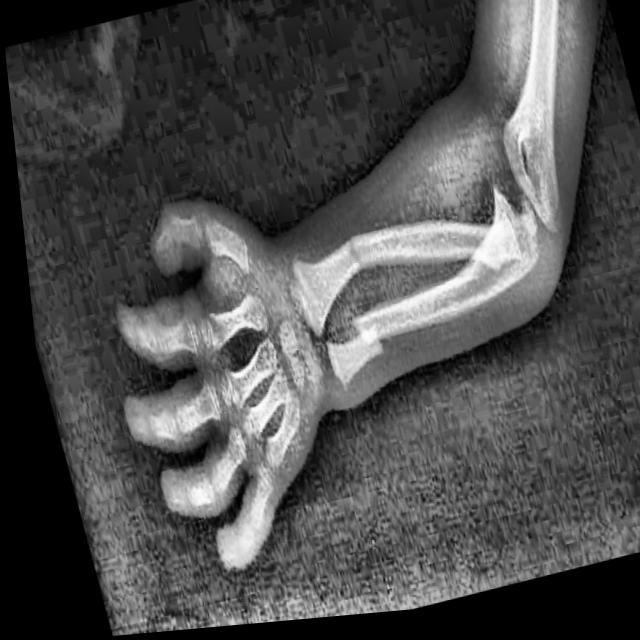fracture: (341, 315, 382, 373), (339, 240, 360, 286)
